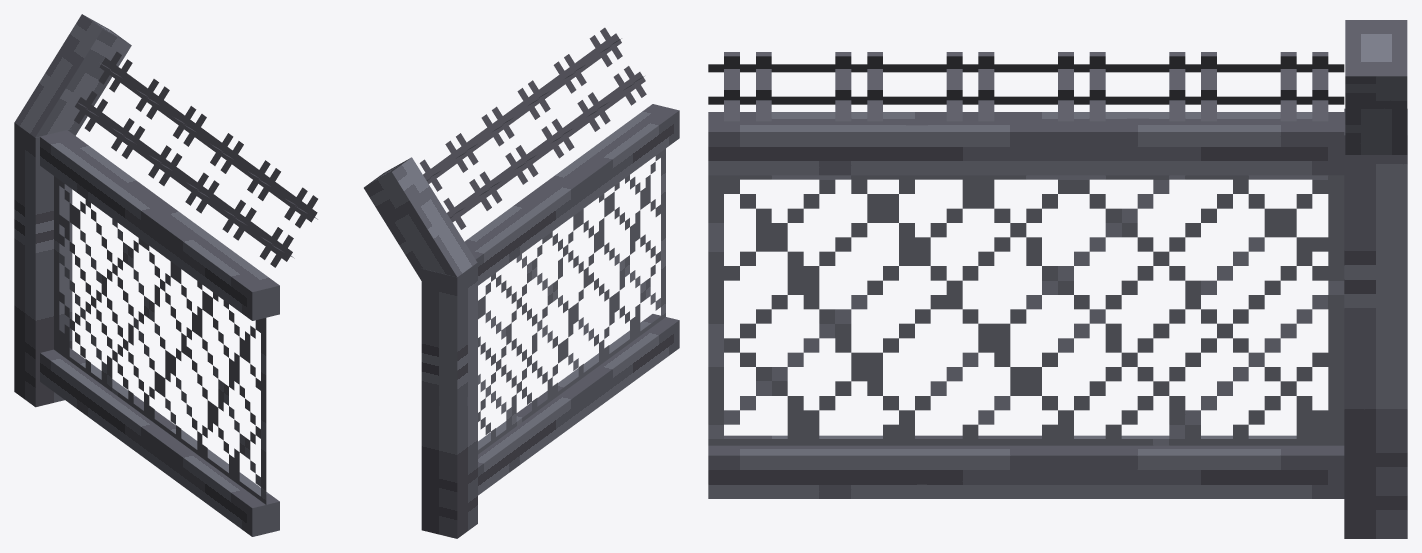
The model's file is fence2_2.gltf.
3 renders of one model, left to right at view 1: azimuth 30°, elevation 25°; view 2: azimuth 150°, elevation 25°; view 3: azimuth 270°, elevation 25°, orthographic. The views are drawn at different scales.
Parts seen in each view (by area): view 1: cube (×6); view 2: cube (×6); view 3: cube (×8).
Part boxes in pixels (box(x1,y1,x2,y2)): cube (×6): box(14, 14, 317, 536); cube (×6): box(364, 27, 679, 538); cube (×8): box(708, 20, 1407, 538).
Size of the model in its own units: 1.23 by 4.39 by 5.14.
1 material, 1 textured.
